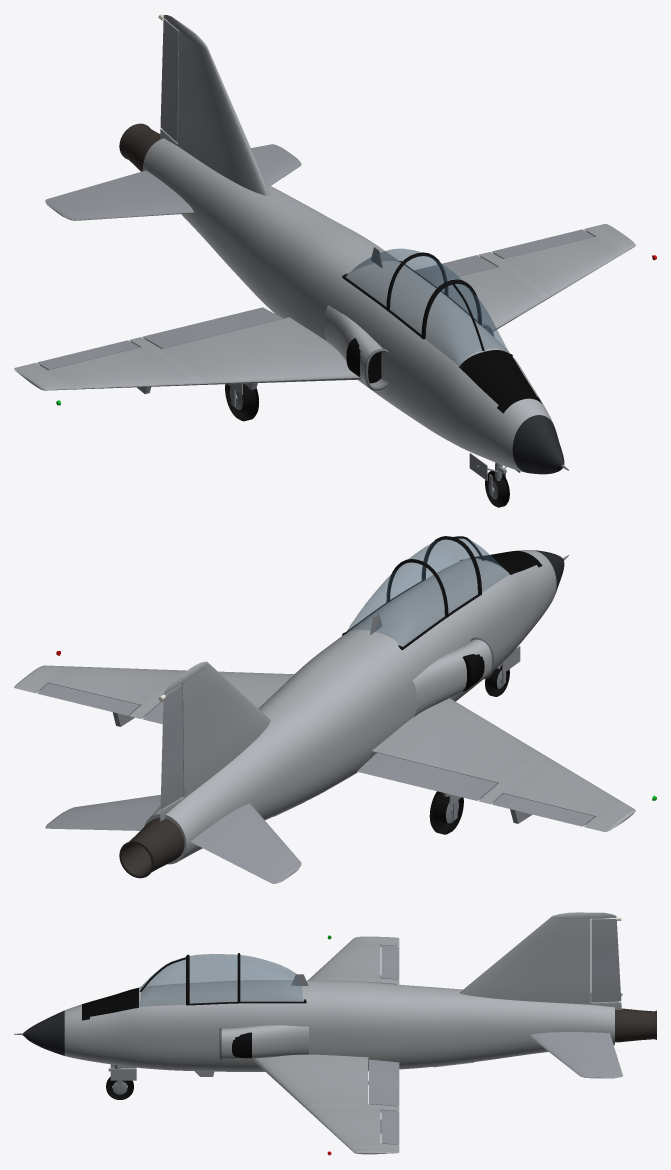
File: jet.glb
3 renders of one model, top to bottom at view 1: azimuth 30°, elevation 25°; view 2: azimuth 150°, elevation 25°; view 3: azimuth 270°, elevation 25°, orthographic. The views are drawn at different scales.
Parts seen in each view (by area): view 1: fuselage, canopy, elevator, gear, flap_r, rudder, flap_l, aileron_r, aileron_l; view 2: fuselage, canopy, elevator, flap_r, rudder, gear, aileron_r, aileron_l; view 3: fuselage, canopy, elevator, rudder, flap_l, gear, aileron_l, aileron_r.
Boxes of the visible parts, bbox=[...] form: fuselage: bbox=[14, 14, 656, 474]; canopy: bbox=[342, 248, 478, 338]; elevator: bbox=[45, 144, 301, 220]; gear: bbox=[225, 383, 520, 507]; flap_r: bbox=[142, 307, 282, 348]; rudder: bbox=[160, 19, 178, 142]; flap_l: bbox=[414, 255, 497, 282]; aileron_r: bbox=[37, 340, 139, 370]; aileron_l: bbox=[492, 229, 594, 258]; fuselage: bbox=[14, 536, 656, 878]; canopy: bbox=[342, 536, 481, 650]; elevator: bbox=[45, 794, 301, 883]; flap_r: bbox=[357, 753, 497, 800]; rudder: bbox=[160, 684, 183, 809]; gear: bbox=[429, 646, 520, 834]; aileron_r: bbox=[492, 794, 594, 826]; aileron_l: bbox=[37, 683, 139, 715]; fuselage: bbox=[14, 912, 656, 1155]; canopy: bbox=[187, 953, 306, 1005]; elevator: bbox=[529, 993, 622, 1078]; rudder: bbox=[591, 918, 621, 1002]; flap_l: bbox=[369, 1059, 399, 1106]; gear: bbox=[106, 1064, 368, 1099]; aileron_l: bbox=[381, 1110, 399, 1144]; aileron_r: bbox=[381, 945, 399, 979].
Size of the model in its own units: 9.94 by 3.98 by 12.43.
